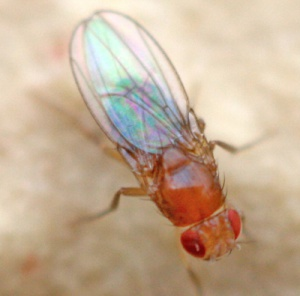phorid fly: (56, 5, 270, 285)
